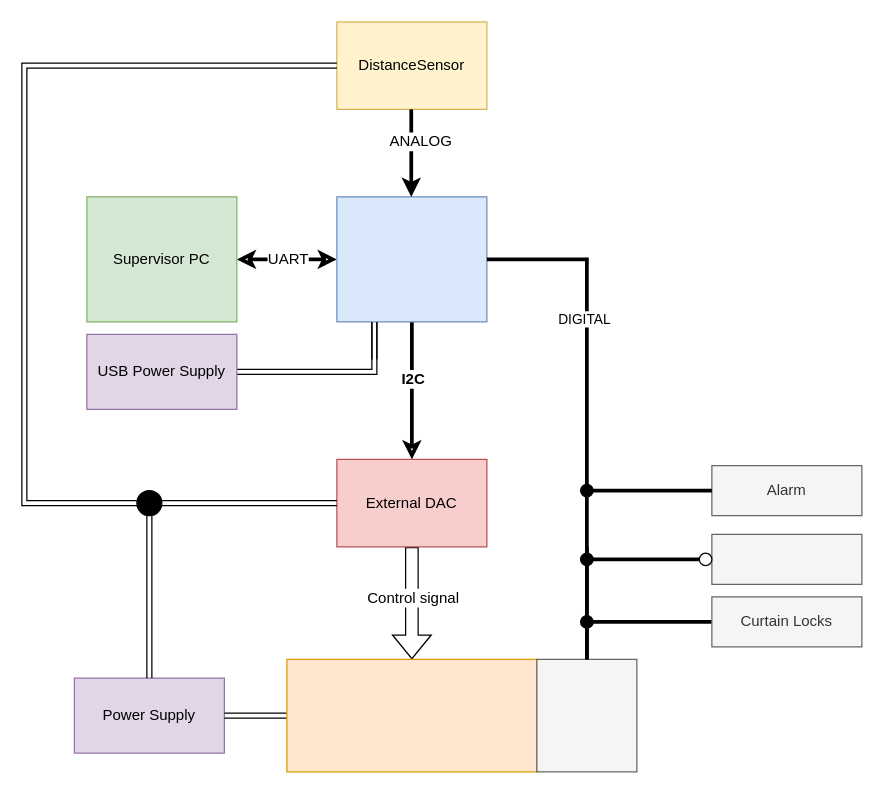
Image size: 884x794. Some labels were removed from this diagram. Here are the shapes that lost their labels. From the top down, the centre of each, then its label:
At [411,259]: "µC STM32F303".
At [786,558]: "Door Lock".
At [411,715]: "DC Motors".
At [586,715]: "DC Motor direction inverter".
